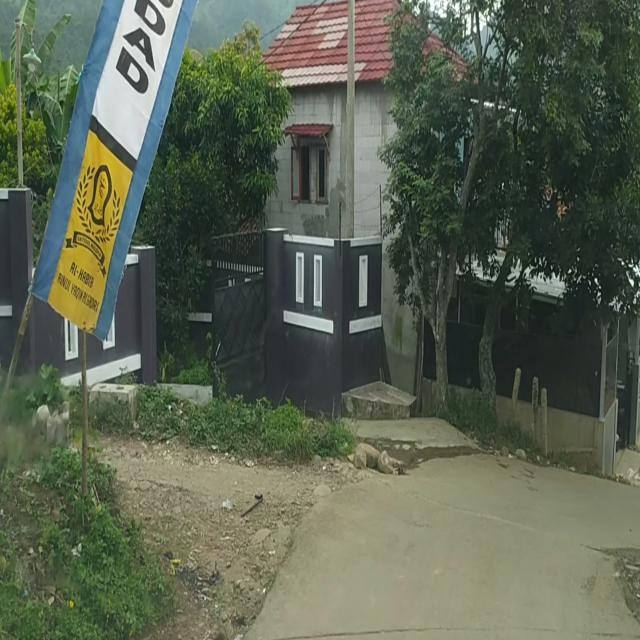Sewer Cover: (298, 614, 640, 640)
